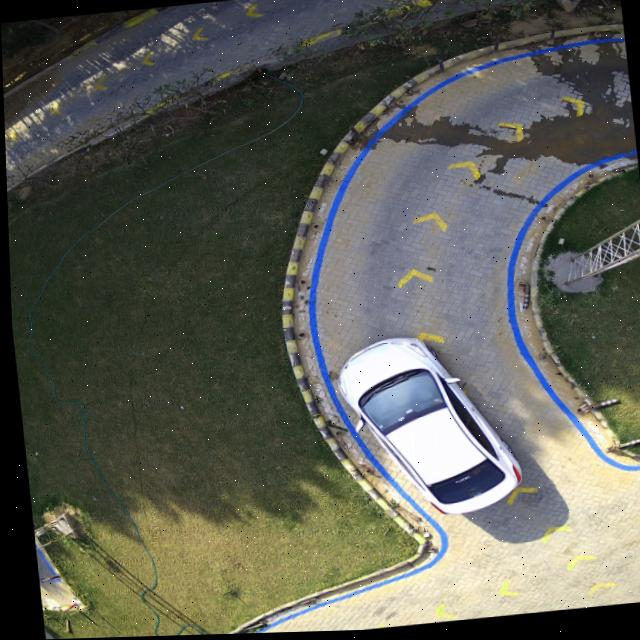car: (334, 338, 519, 515)
